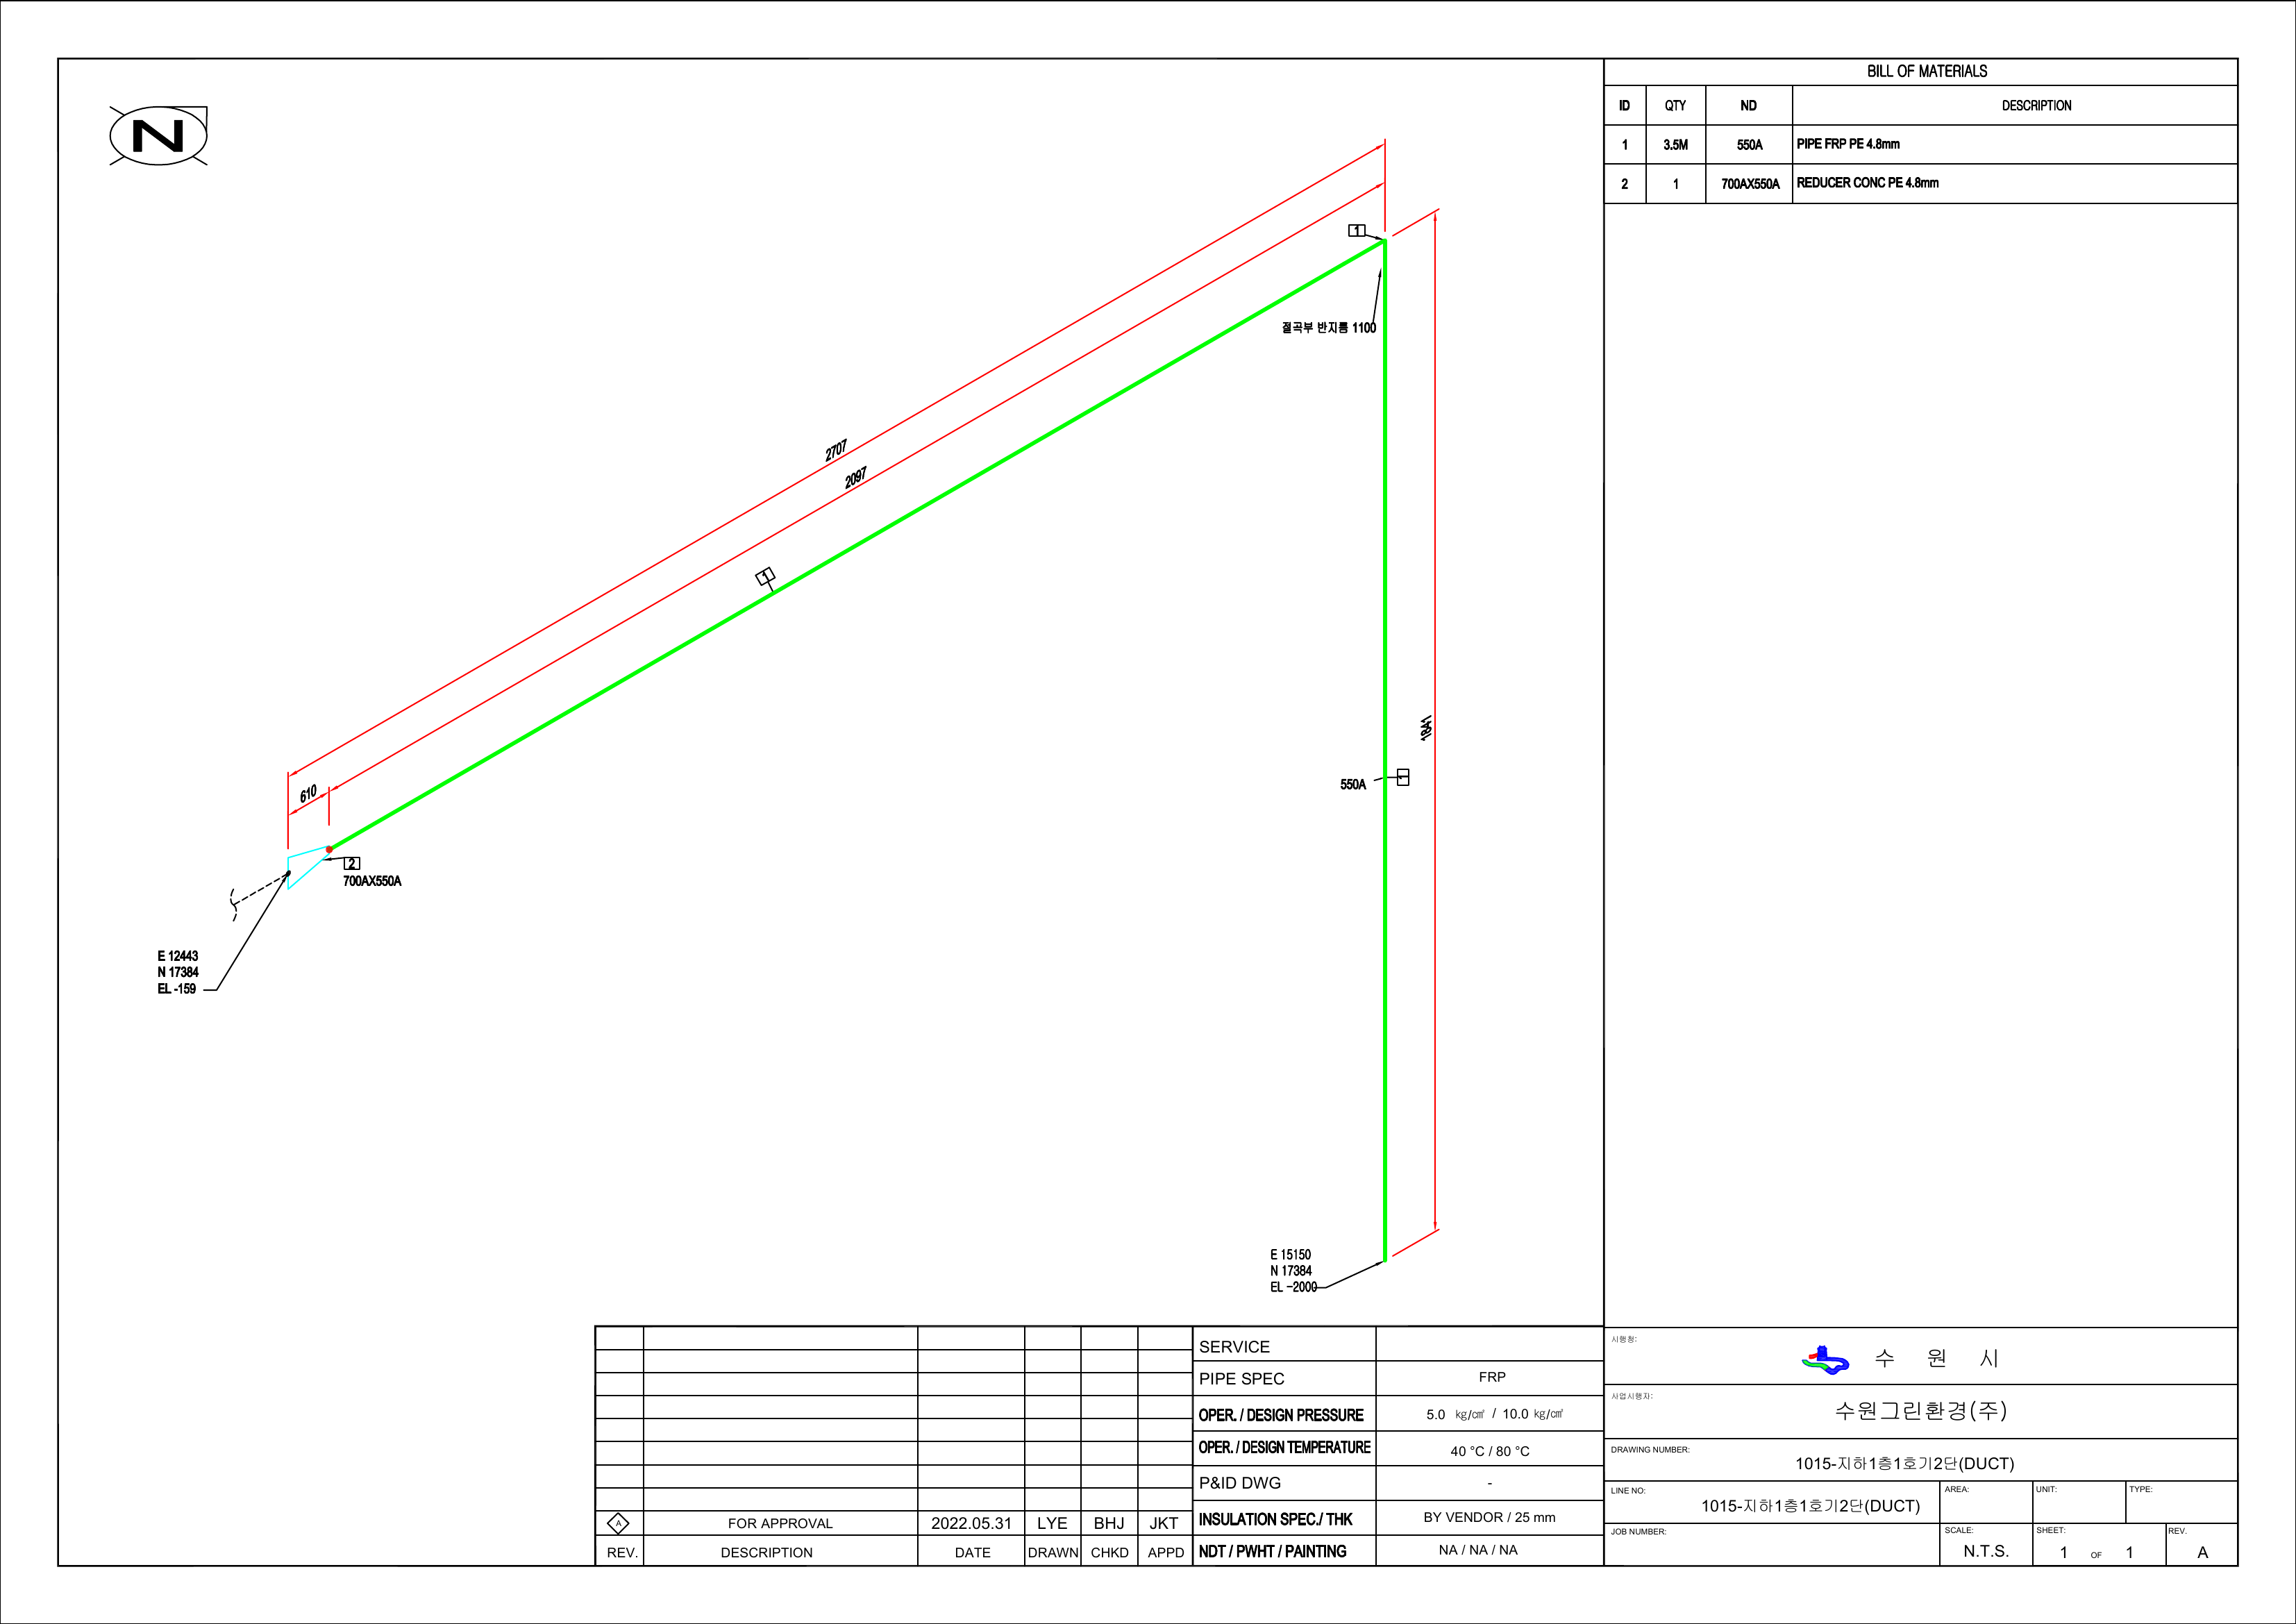table: (1597, 42, 2243, 214)
